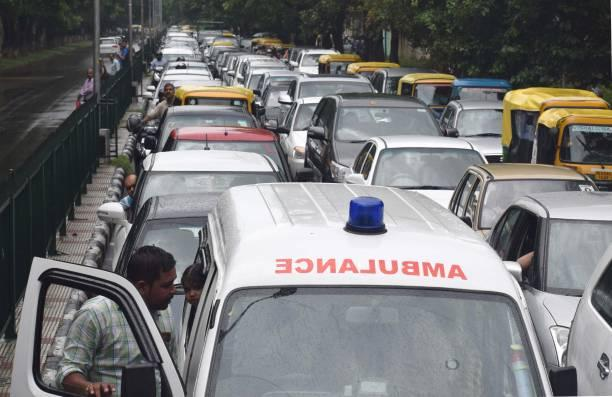AMBULANCE: (215, 188, 508, 397)
